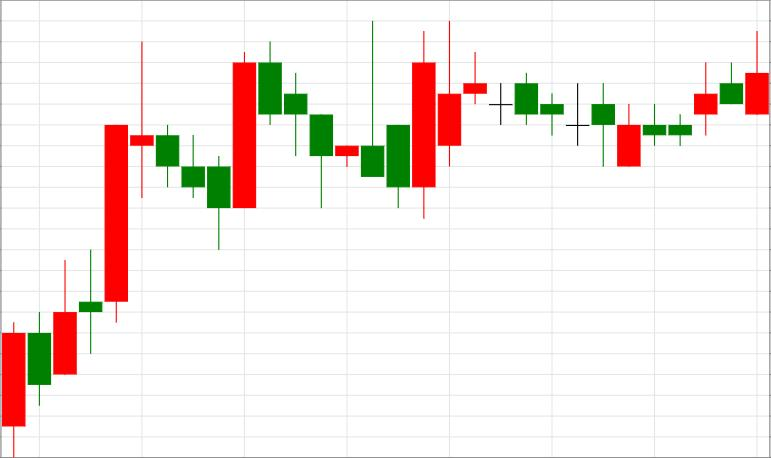bullish_engulfing_rise: (259, 21, 435, 219)
